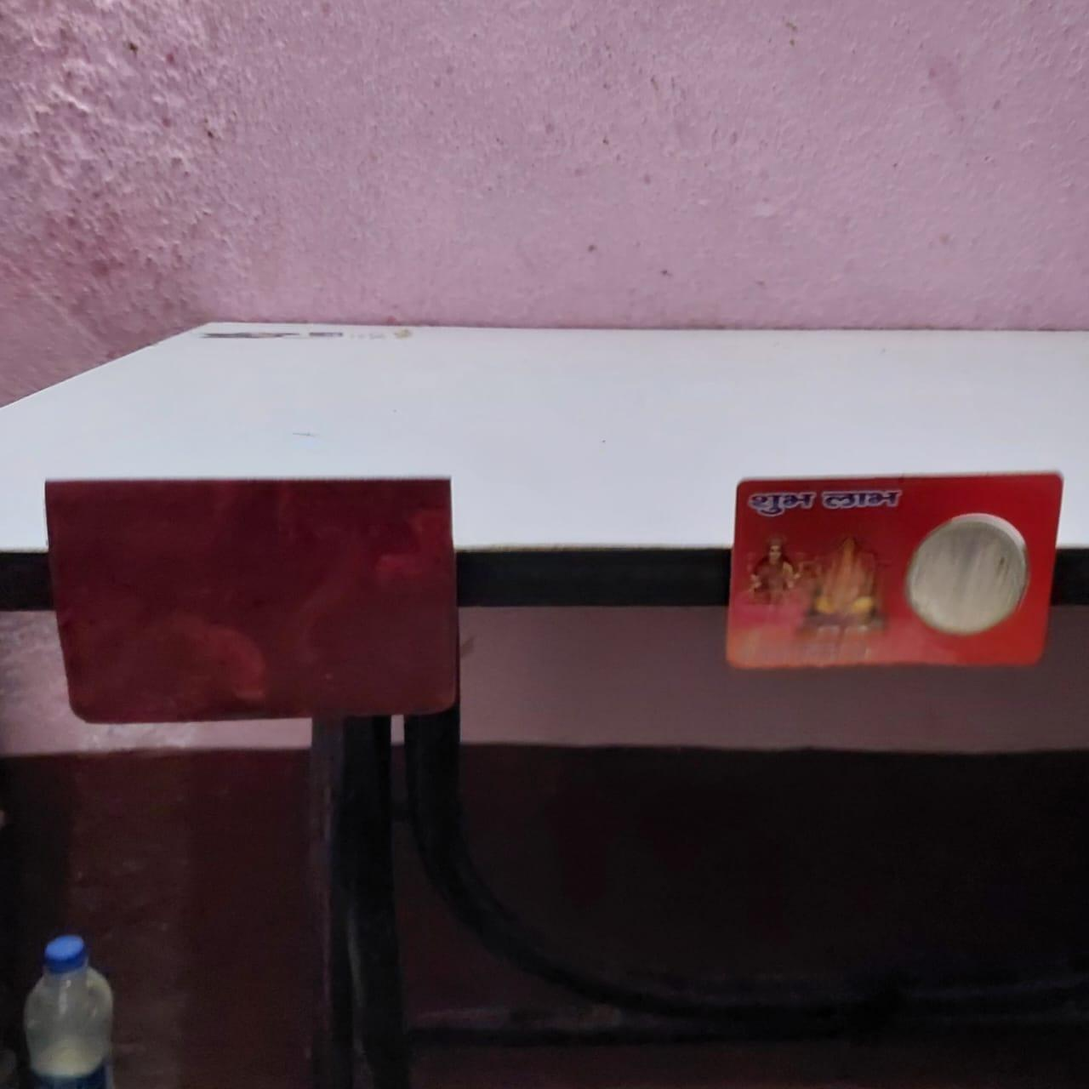blessing_card: (720, 468, 1057, 668)
wallet: (44, 483, 466, 732)
